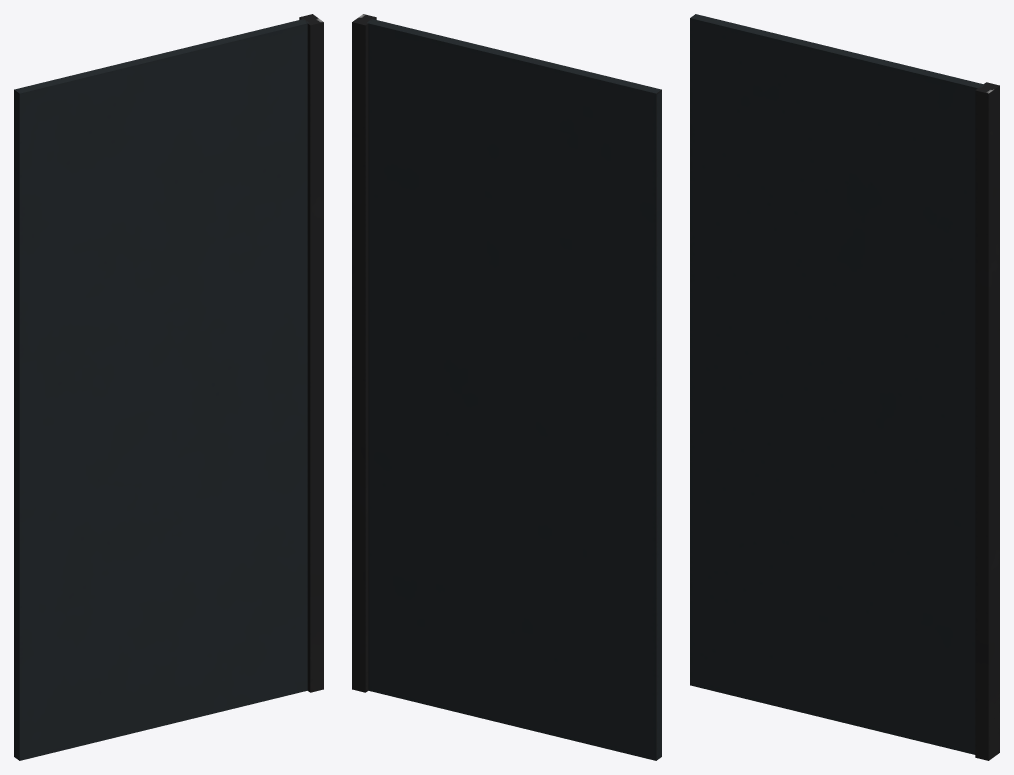
File: H_ShowerGlass.fbx
3 views of the same model, side by side, from view 1: azimuth 30°, elevation 25°; view 2: azimuth 150°, elevation 25°; view 3: azimuth 330°, elevation 25° (orthographic).
Parts seen in each view (by area): view 1: H_ShowerGlass__H_ShowerGlass, H_ShowerGlass__H_ShowerGlassProfile; view 2: H_ShowerGlass__H_ShowerGlass, H_ShowerGlass__H_ShowerGlassProfile; view 3: H_ShowerGlass__H_ShowerGlass, H_ShowerGlass__H_ShowerGlassProfile.
Boxes of the visible parts, bbox=[...] form: H_ShowerGlass__H_ShowerGlass: bbox=[14, 19, 308, 760]; H_ShowerGlass__H_ShowerGlassProfile: bbox=[299, 14, 323, 692]; H_ShowerGlass__H_ShowerGlass: bbox=[367, 19, 661, 760]; H_ShowerGlass__H_ShowerGlassProfile: bbox=[352, 14, 376, 692]; H_ShowerGlass__H_ShowerGlass: bbox=[690, 14, 984, 754]; H_ShowerGlass__H_ShowerGlassProfile: bbox=[975, 82, 999, 760].
Size of the model in its own units: 312 by 660 by 20.
1 material, 1 textured.
